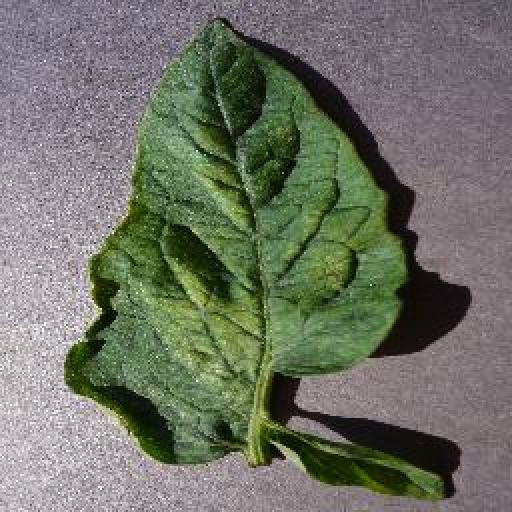disease_tomato: (63, 16, 408, 462)
